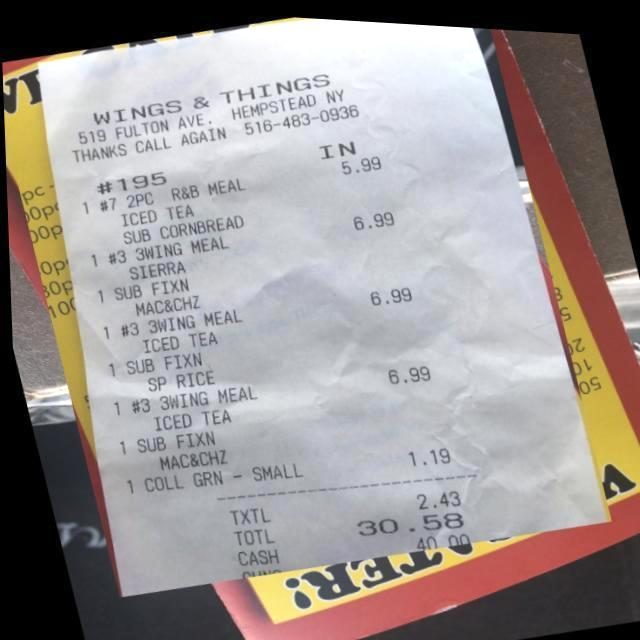Paper: (0, 0, 608, 618)
